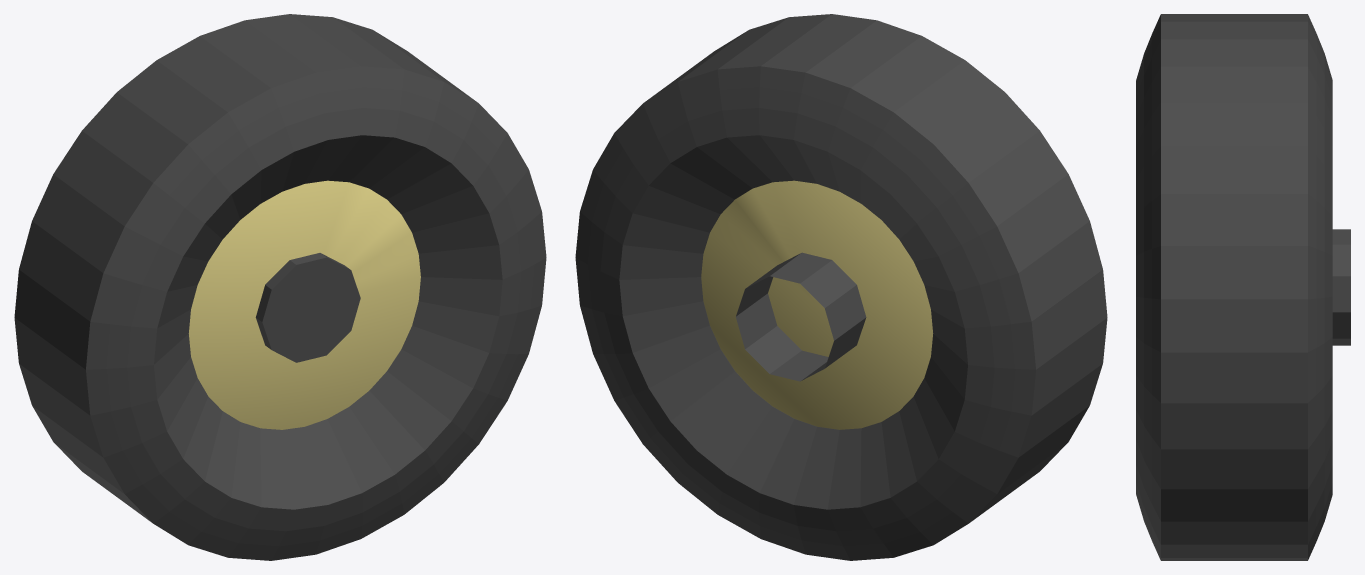
The model's file is wheel.dae.
The picture shows the model from 3 angles, left to right: view 1: azimuth 30°, elevation 25°; view 2: azimuth 150°, elevation 25°; view 3: azimuth 270°, elevation 25°; orthographic projection. The views are drawn at different scales.
Visible parts, largest first — view 1: Cylinder, hub; view 2: Cylinder, hub; view 3: Cylinder, hub.
Part boxes in pixels (x1,y1,x2,y2): Cylinder: [14, 14, 546, 560]; hub: [255, 253, 360, 362]; Cylinder: [575, 14, 1107, 560]; hub: [736, 252, 866, 381]; Cylinder: [1136, 14, 1332, 560]; hub: [1332, 229, 1350, 345].
Size of the model in its own units: 0.2231 by 0.0875 by 0.2231.
